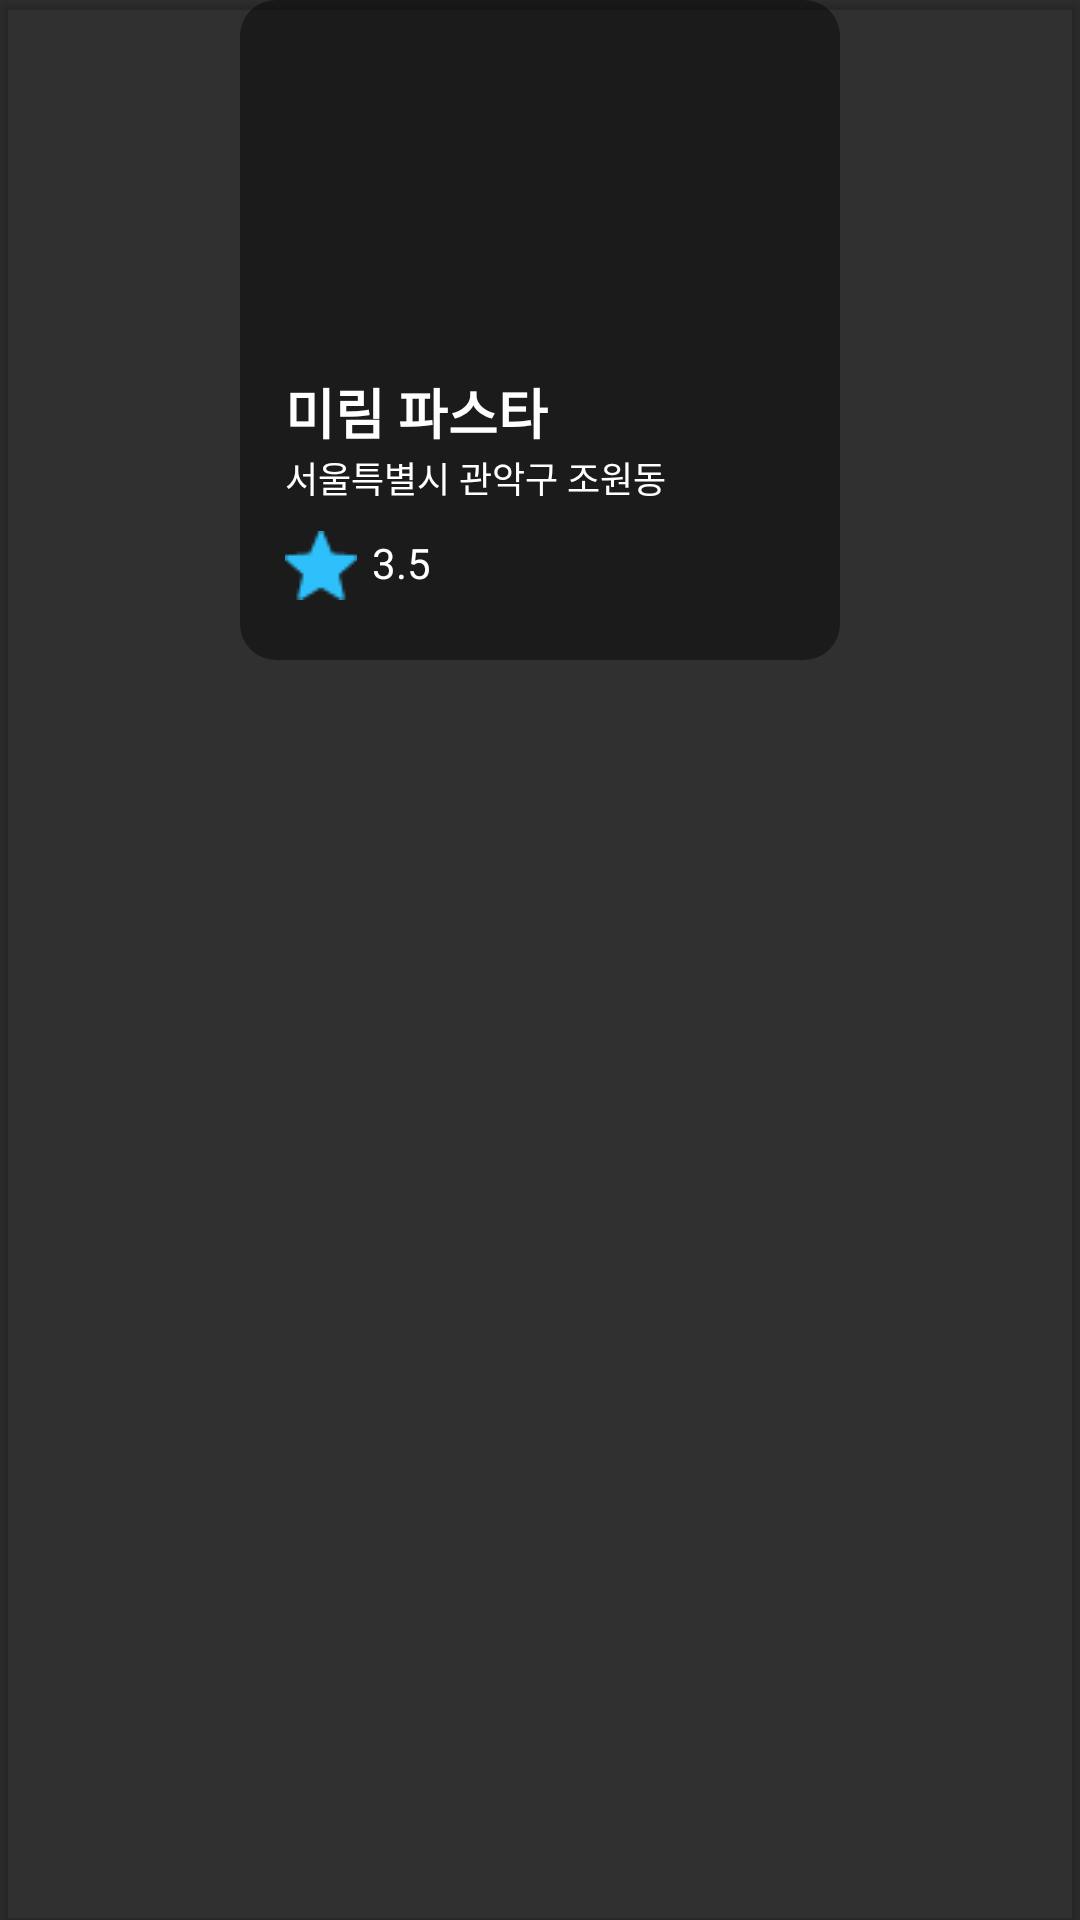

Point at icon controls on the screen. Image size 1080×1920, points as point (x, y).
starstar: point (321, 565)
